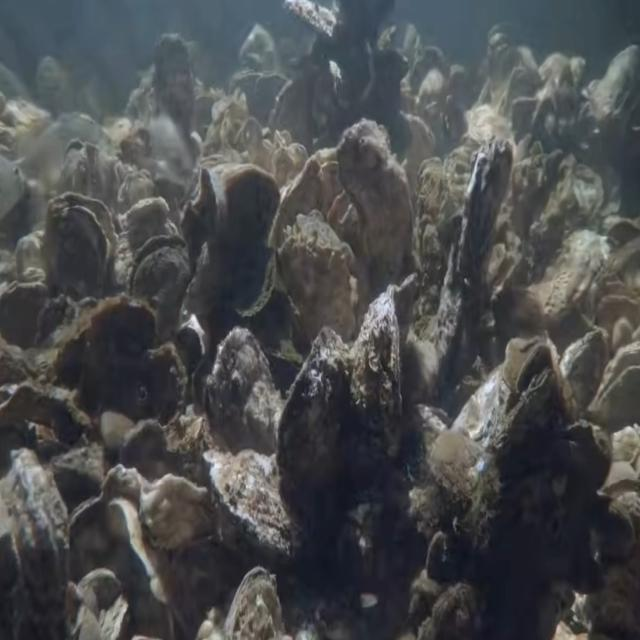Oyster-Closed: (336, 120, 414, 296), (201, 446, 305, 566), (218, 565, 284, 640), (0, 278, 53, 346)
Oyster-Indeterminate: (436, 137, 515, 366), (275, 325, 353, 519), (450, 338, 558, 462), (0, 446, 69, 639), (277, 210, 360, 347), (56, 297, 158, 405), (349, 285, 401, 467), (204, 326, 276, 456), (224, 163, 282, 320), (524, 229, 610, 325), (46, 190, 120, 301), (415, 156, 462, 322), (558, 328, 611, 427), (135, 340, 189, 426)
Oyster-Open: (126, 231, 192, 343), (181, 165, 226, 268), (588, 342, 640, 424)
